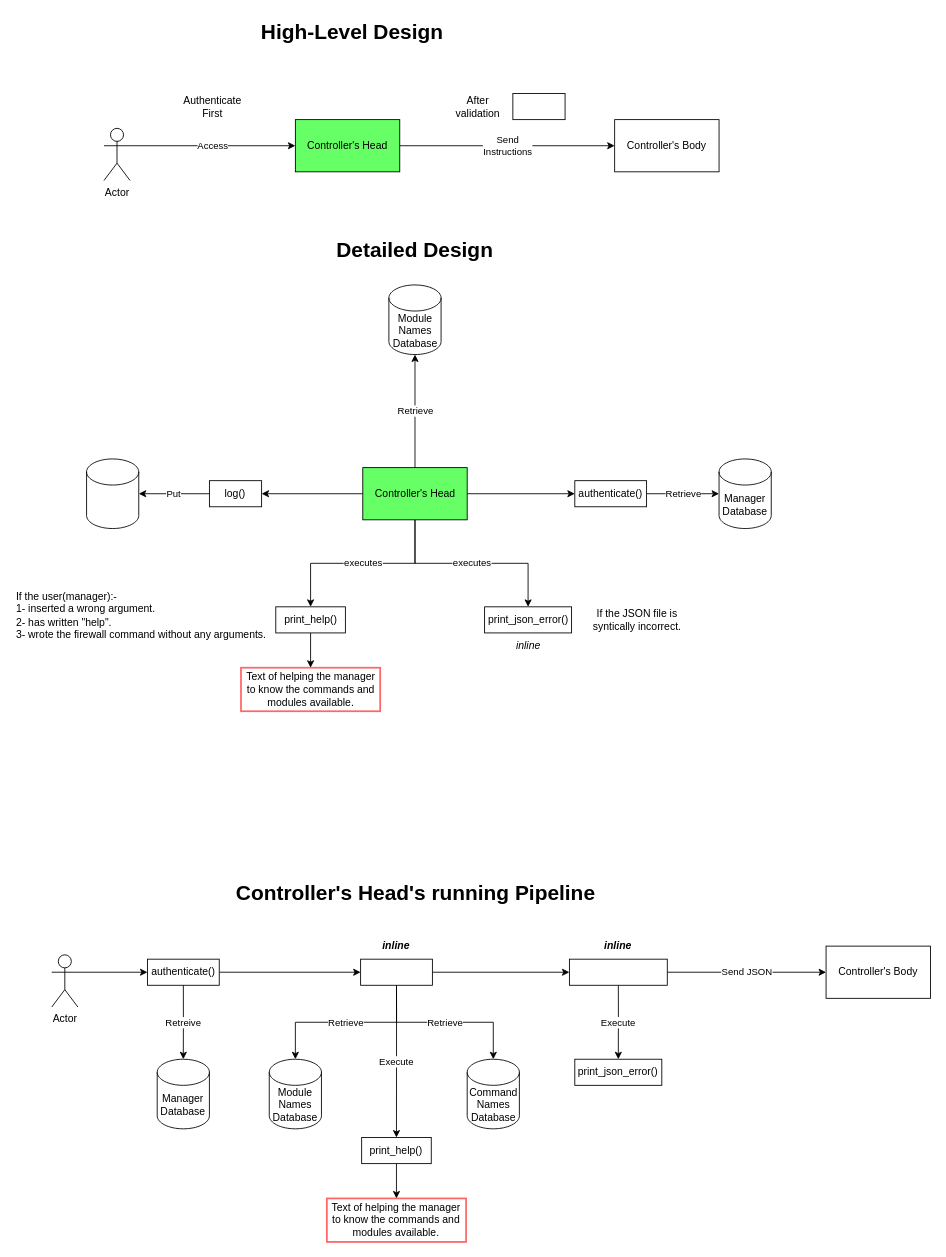
This 946x1257 diagram has some shape labels left out. The shapes that lost their labels are listed below. From the top down, each one's centre as x and y in pixels, then its label:
the point at 538,106: JSON file
the point at 112,493: Login History
the point at 396,971: C_arguments validation()
the point at 618,971: JSON_validation()
